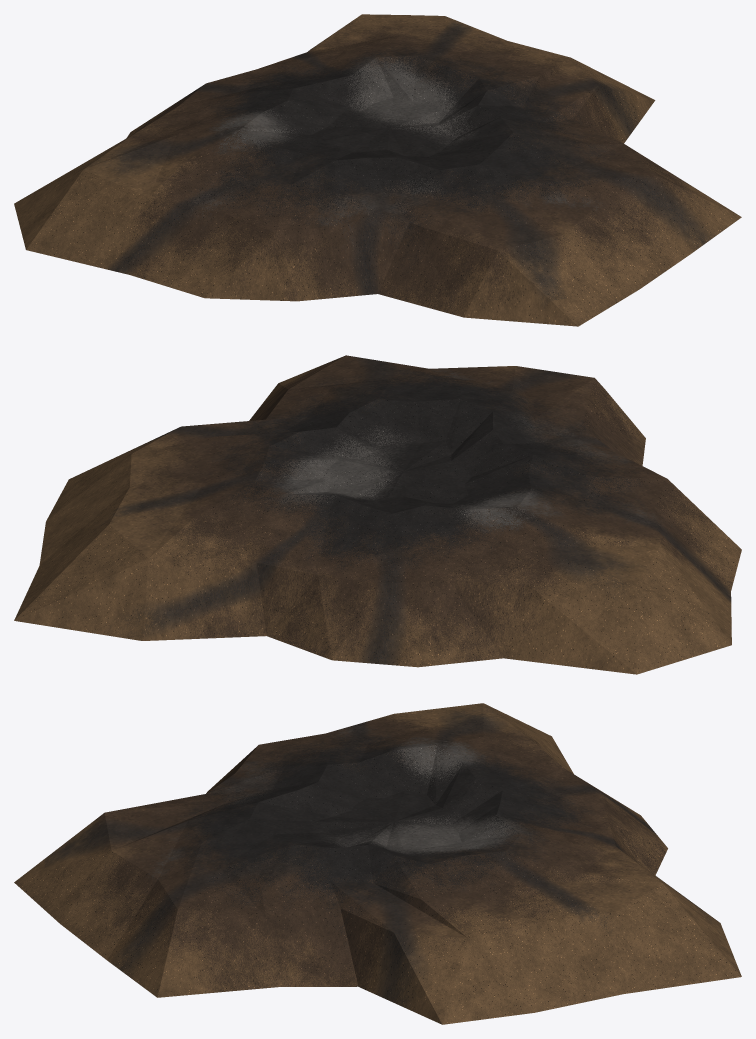
Rendered from crashed_pod_v1_scorch.fbx.
3 views of the same model, one above another, from view 1: azimuth 30°, elevation 25°; view 2: azimuth 150°, elevation 25°; view 3: azimuth 270°, elevation 25° (orthographic). The views are drawn at different scales.
Visible parts, largest first — view 1: crashed_pod_v1_scorch; view 2: crashed_pod_v1_scorch; view 3: crashed_pod_v1_scorch.
Boxes of the visible parts, box(x1,y1,x2,y2) form: crashed_pod_v1_scorch: box(14, 14, 741, 326); crashed_pod_v1_scorch: box(14, 355, 741, 674); crashed_pod_v1_scorch: box(14, 703, 741, 1024).
Size of the model in its own units: 1000 by 113 by 1000.
Materials: 1 (1 with a texture image).
